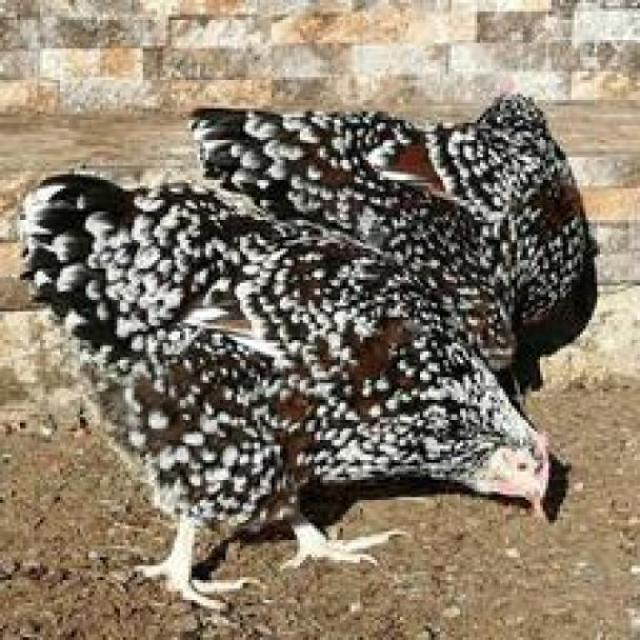Chicken: (32, 136, 601, 610)
